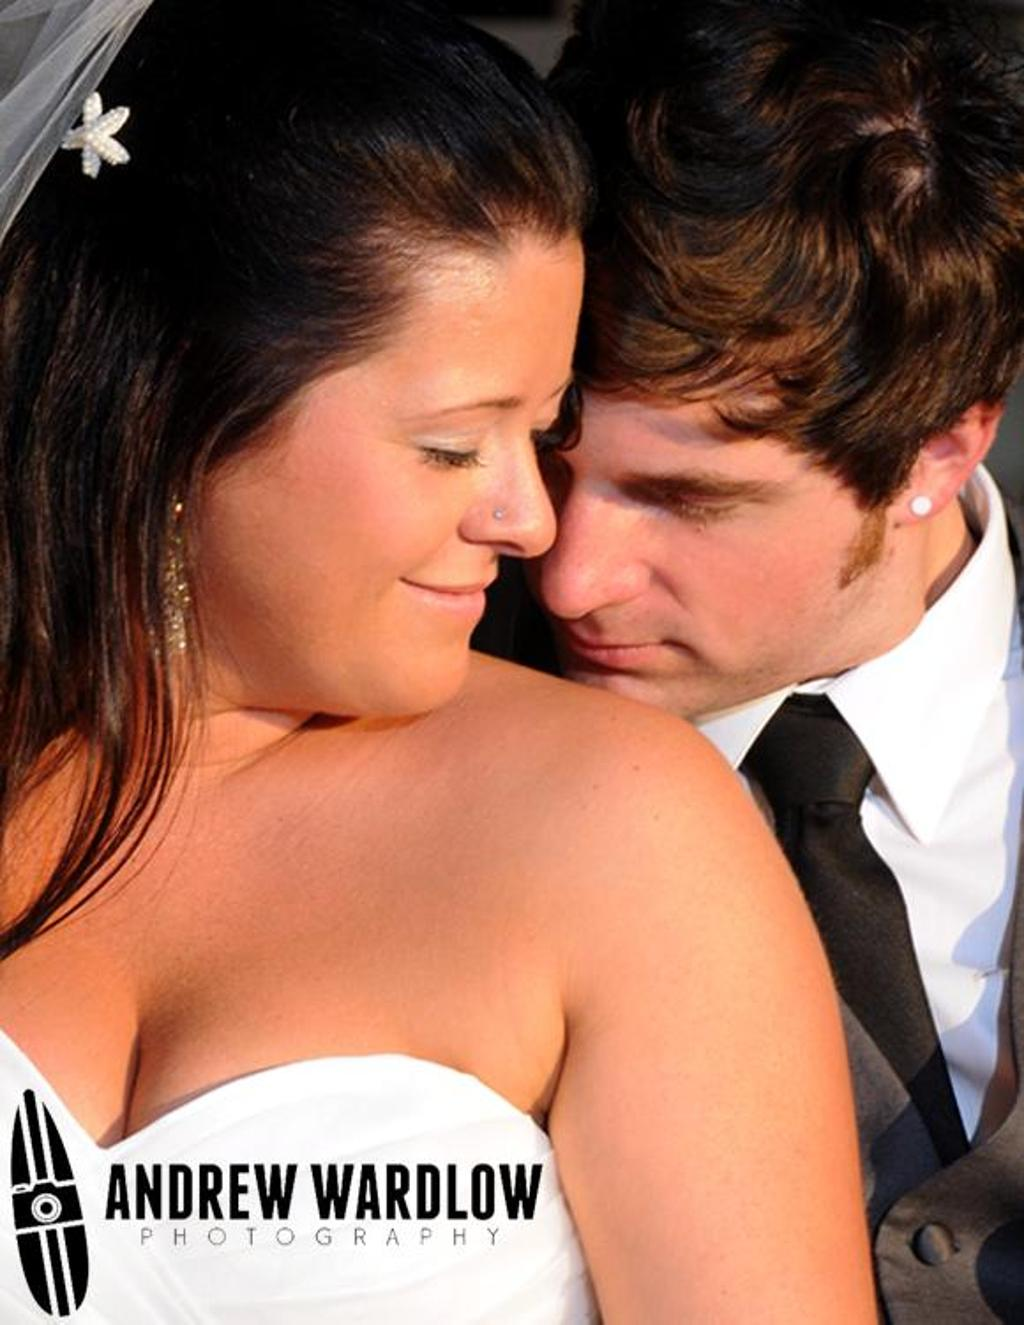face: (515, 204, 885, 716), (217, 222, 584, 721)
